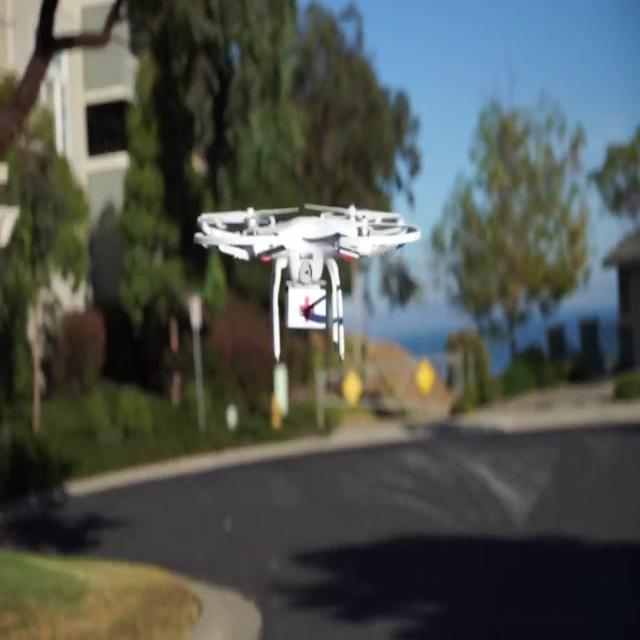drone: (195, 203, 422, 360)
